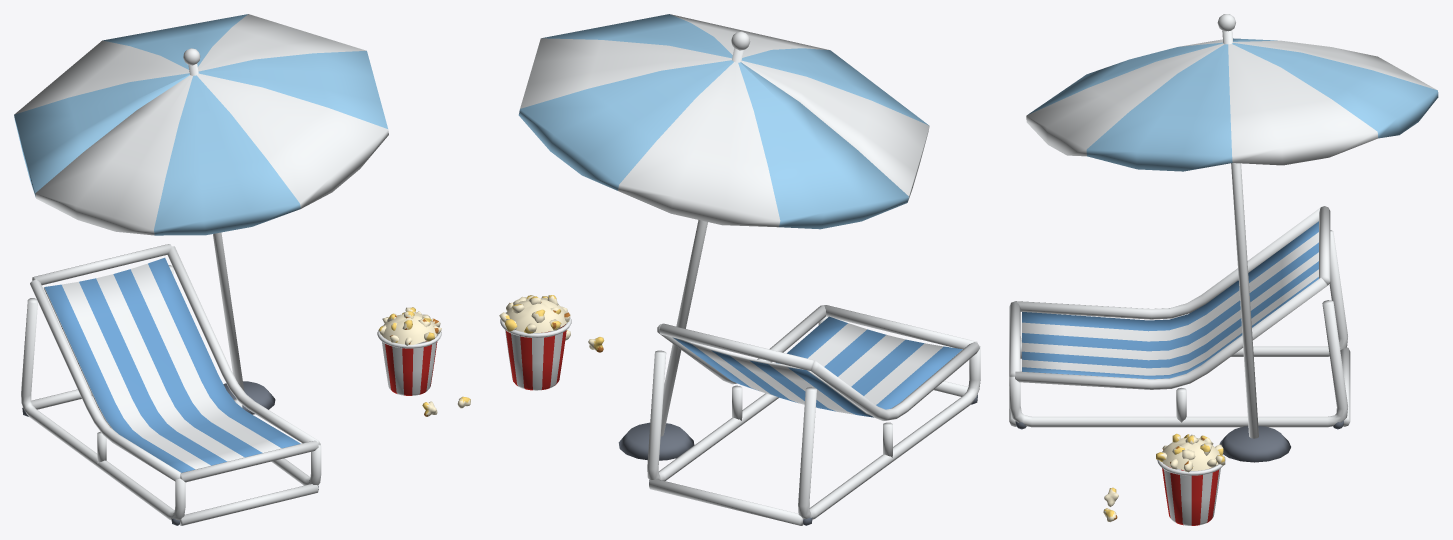
Rendered from popcorn.glb.
The picture shows the model from 3 angles, left to right: view 1: azimuth 30°, elevation 25°; view 2: azimuth 150°, elevation 25°; view 3: azimuth 270°, elevation 25°; orthographic projection. The views are drawn at different scales.
Visible parts, largest first — view 1: Umbrella, Lounger, Bucket; view 2: Umbrella, Lounger, Bucket; view 3: Umbrella, Lounger, Bucket.
Part boxes in pixels (<box>): Umbrella: <box>14,14,388,414</box>; Lounger: <box>21,244,321,525</box>; Bucket: <box>377,307,441,395</box>; Umbrella: <box>518,14,929,460</box>; Lounger: <box>647,305,980,525</box>; Bucket: <box>499,295,571,390</box>; Umbrella: <box>1026,14,1438,462</box>; Lounger: <box>1009,206,1350,429</box>; Bucket: <box>1156,433,1225,525</box>.
Bounding box in the file's own units: 7.07 × 6.67 × 6.45.
Materials: 1 (1 with a texture image).
